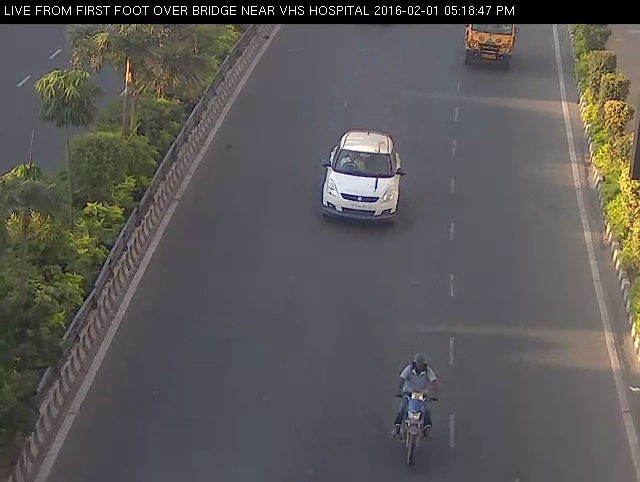Car: (305, 121, 423, 238), (457, 24, 524, 75)
Person: (381, 336, 446, 478)
